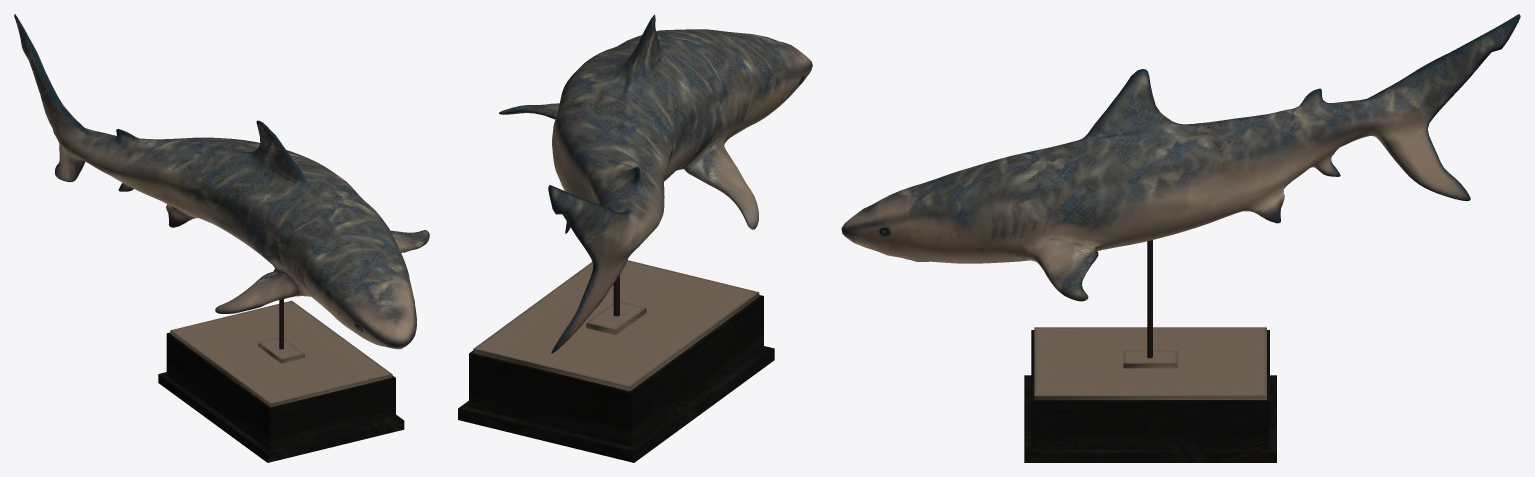
Rendered from bronze_shark_statue.glb.
The picture shows the model from 3 angles, left to right: view 1: azimuth 30°, elevation 25°; view 2: azimuth 150°, elevation 25°; view 3: azimuth 270°, elevation 25°; orthographic projection. The views are drawn at different scales.
Parts seen in each view (by area): view 1: bronze_shark_statue; view 2: bronze_shark_statue; view 3: bronze_shark_statue.
Boxes of the visible parts, bbox=[...] form: bronze_shark_statue: bbox=[14, 14, 429, 462]; bronze_shark_statue: bbox=[458, 14, 812, 462]; bronze_shark_statue: bbox=[841, 14, 1520, 462].
Bounding box in the file's own units: 0.3519 × 0.4316 × 0.7598.
1 material, 1 textured.
